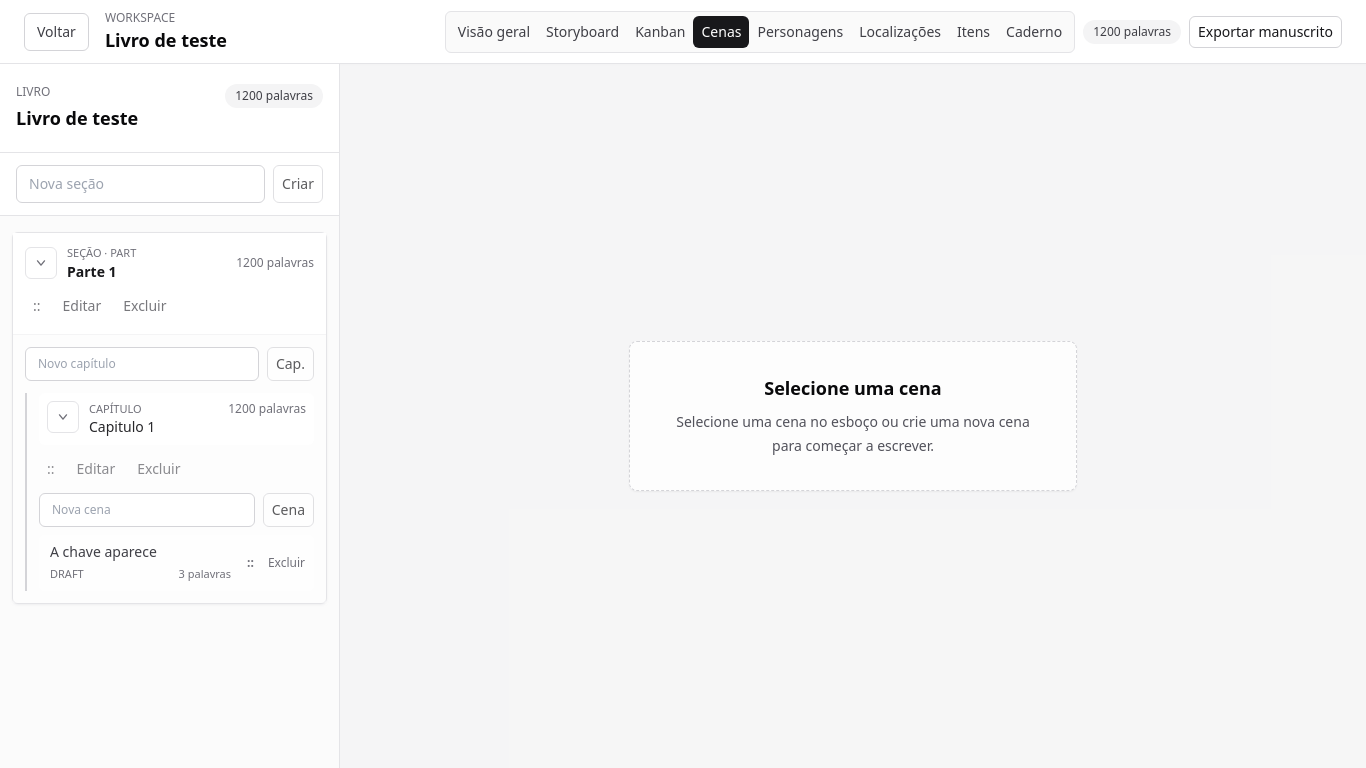
BookWorkspace initial scene selection › abre cena do storyboard no editor e atualiza a URL
Expected: the text "Livro" is shown, [16,83,50,100]
Click the button "Storyboard". click: (583, 32)
box: [538,16,627,48]
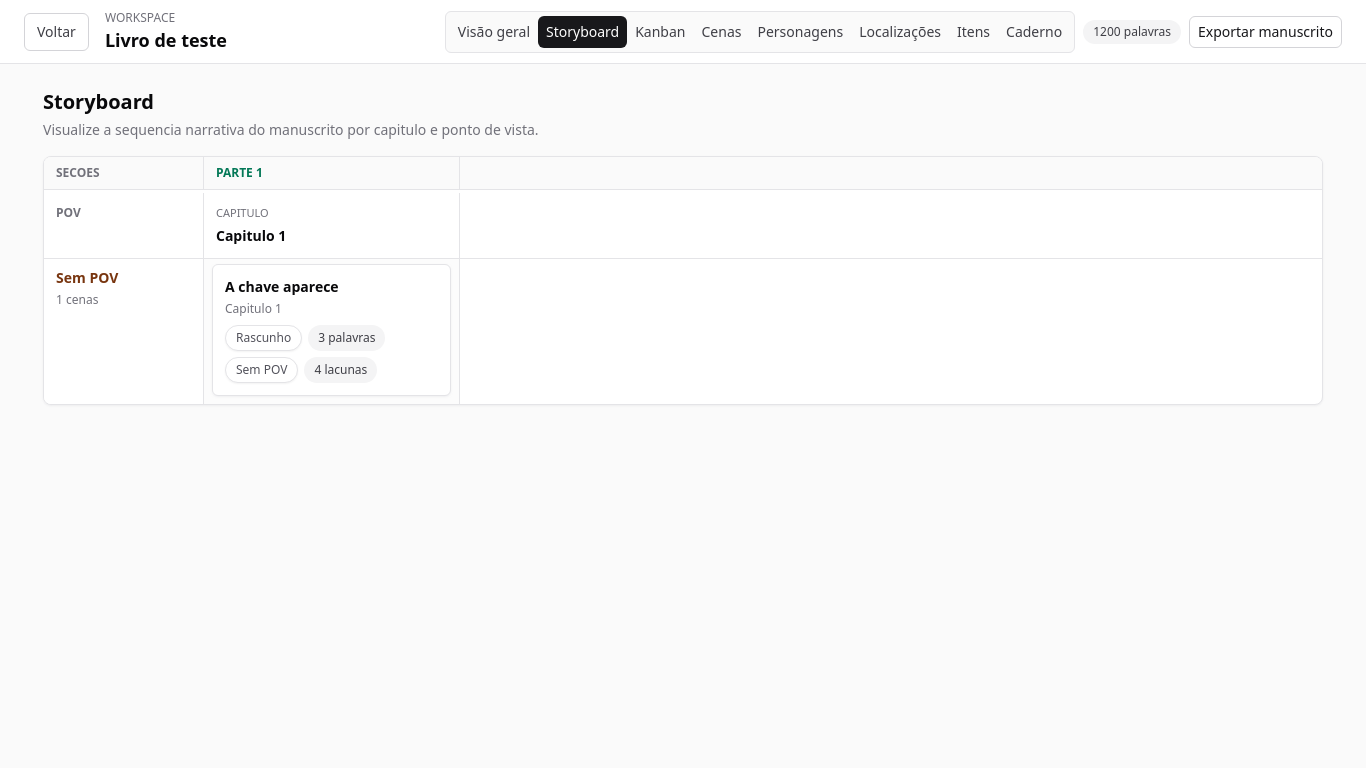
Expected: the heading "Storyboard" is shown, [43,88,154,115]
Click the button with aria-label "Abrir cena A chave aparece". click: (332, 330)
box: [212,264,451,396]
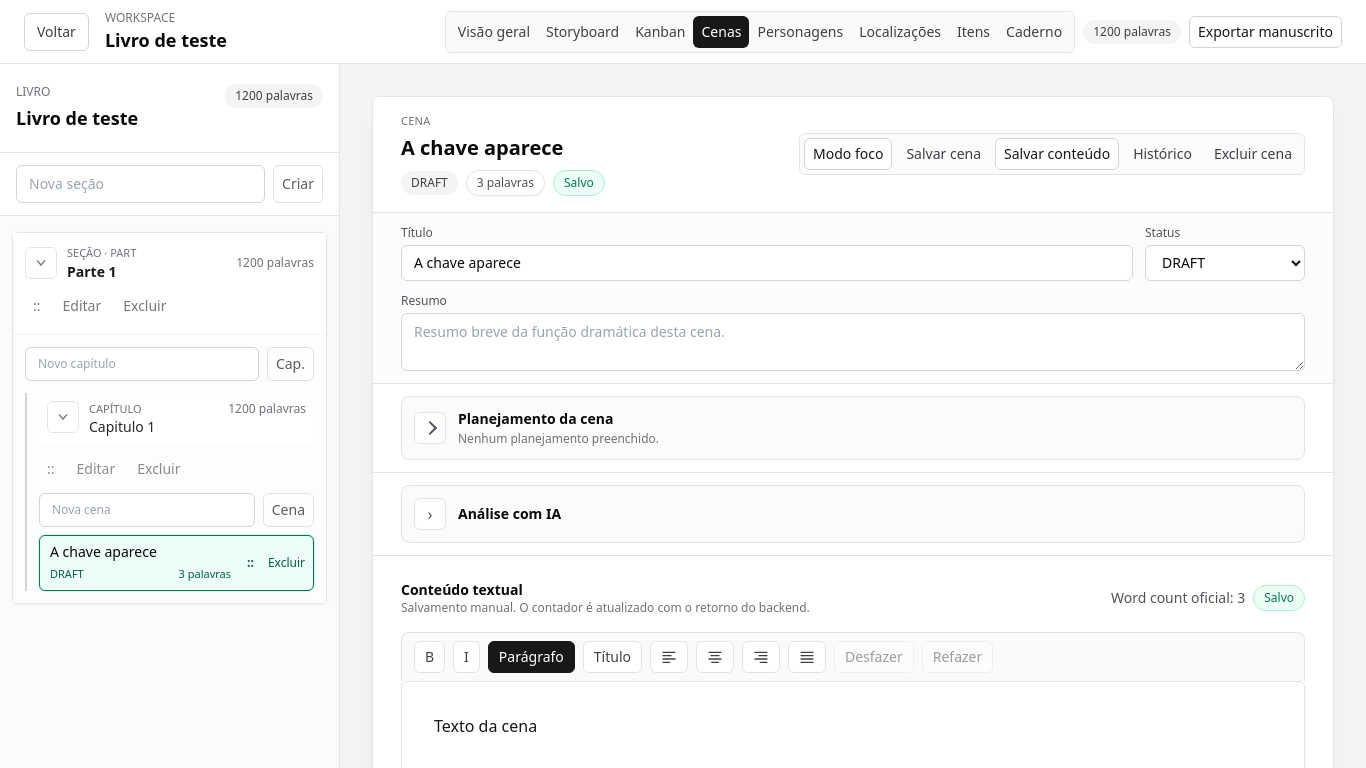
Expected: the heading "A chave aparece" is shown, [401,134,563,160]
Expected: the text "Livro" is shown, [16,83,50,100]
